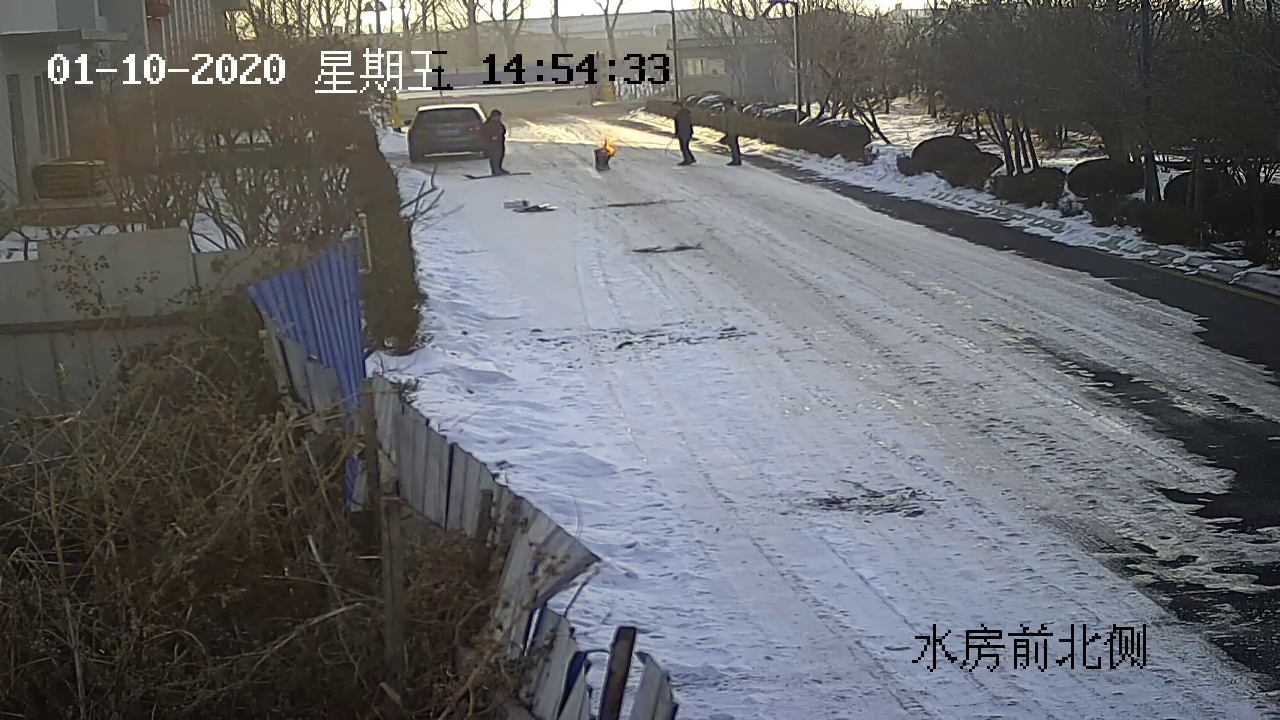fire: (600, 132, 616, 150)
